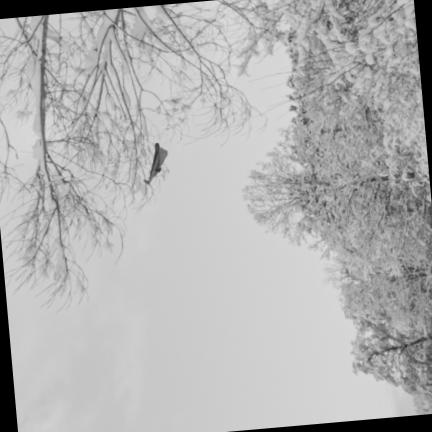Shahed: (145, 142, 167, 183)
